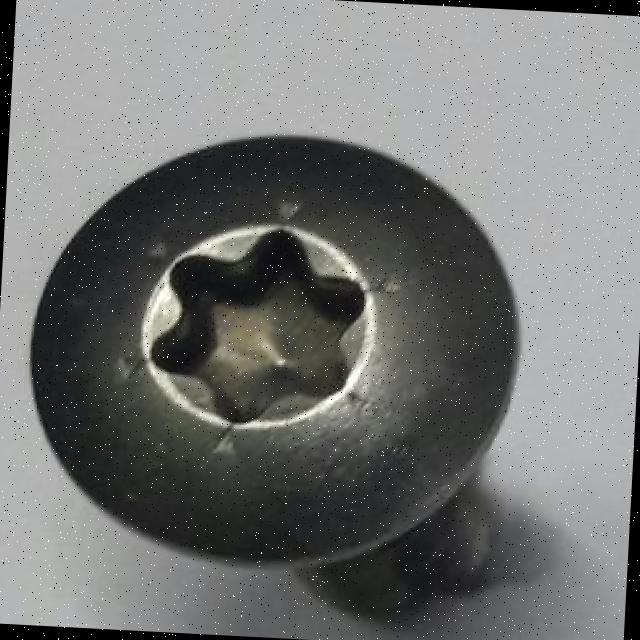Torx: (18, 123, 534, 578)
